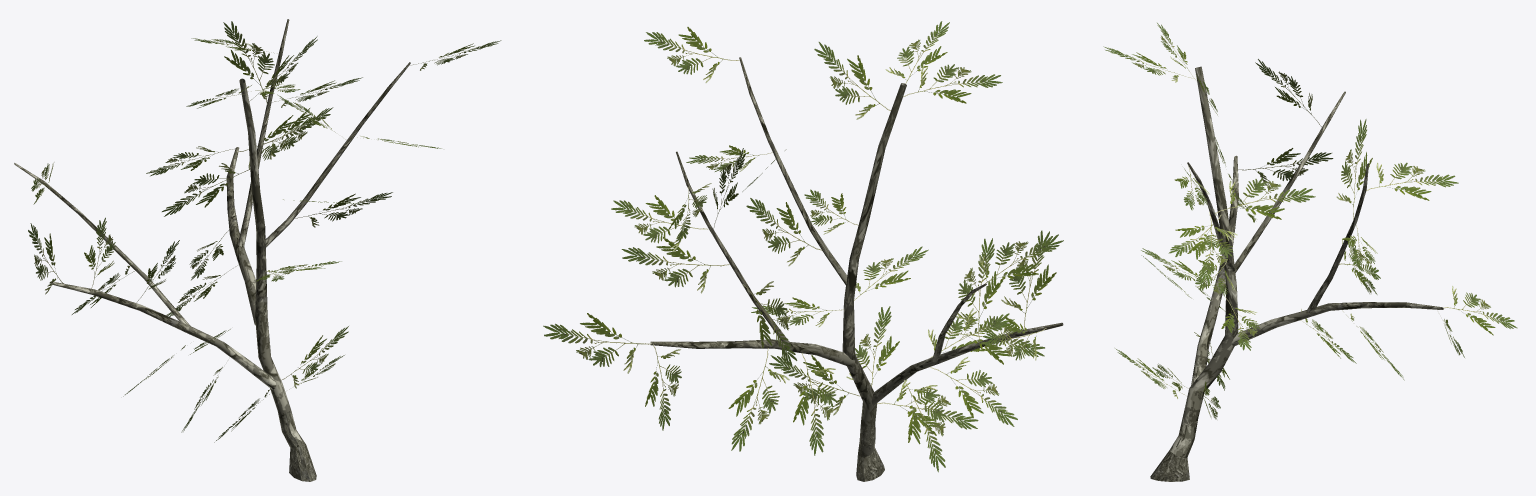
File: Branch07.fbx
The picture shows the model from 3 angles, left to right: view 1: azimuth 30°, elevation 25°; view 2: azimuth 150°, elevation 25°; view 3: azimuth 270°, elevation 25°; orthographic projection. The views are drawn at different scales.
Visible parts, largest first — view 1: Branch07, Object001; view 2: Branch07, Object001; view 3: Branch07, Object001.
Part boxes in pixels (x1,y1,x2,y2): Branch07: [14, 19, 501, 447]; Object001: [278, 410, 316, 481]; Branch07: [543, 21, 1063, 472]; Object001: [856, 422, 884, 481]; Branch07: [1103, 23, 1517, 457]; Object001: [1150, 423, 1192, 481].
Bounding box in the file's own units: 127 × 117 × 105.
